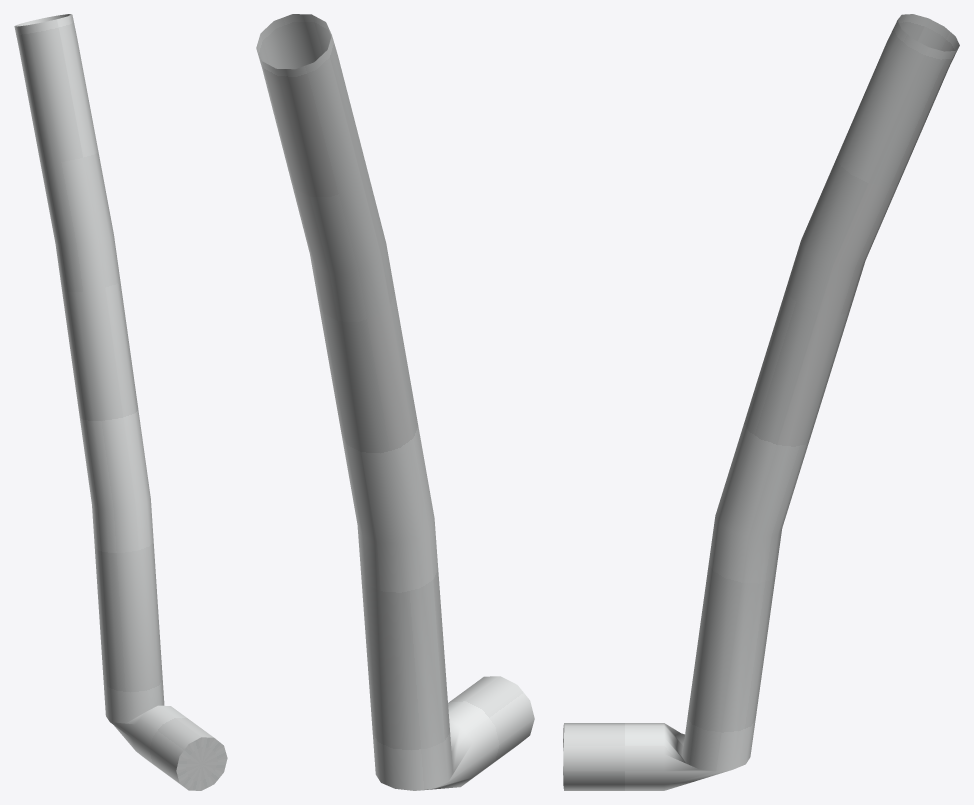
Rendered from luminairearm_laupsweep8ft_c1.obj.
3 views of the same model, side by side, from view 1: azimuth 30°, elevation 25°; view 2: azimuth 150°, elevation 25°; view 3: azimuth 270°, elevation 25° (orthographic). The views are drawn at different scales.
Parts seen in each view (by area): view 1: luminairearm_laupsweep8ft_c1; view 2: luminairearm_laupsweep8ft_c1; view 3: luminairearm_laupsweep8ft_c1.
Boxes of the visible parts, x1,y1,x2,y2 form: luminairearm_laupsweep8ft_c1: [14, 14, 227, 790]; luminairearm_laupsweep8ft_c1: [256, 14, 534, 790]; luminairearm_laupsweep8ft_c1: [563, 14, 959, 790].
Bounding box in the file's own units: 0.0562 × 0.6971 × 0.3266.
